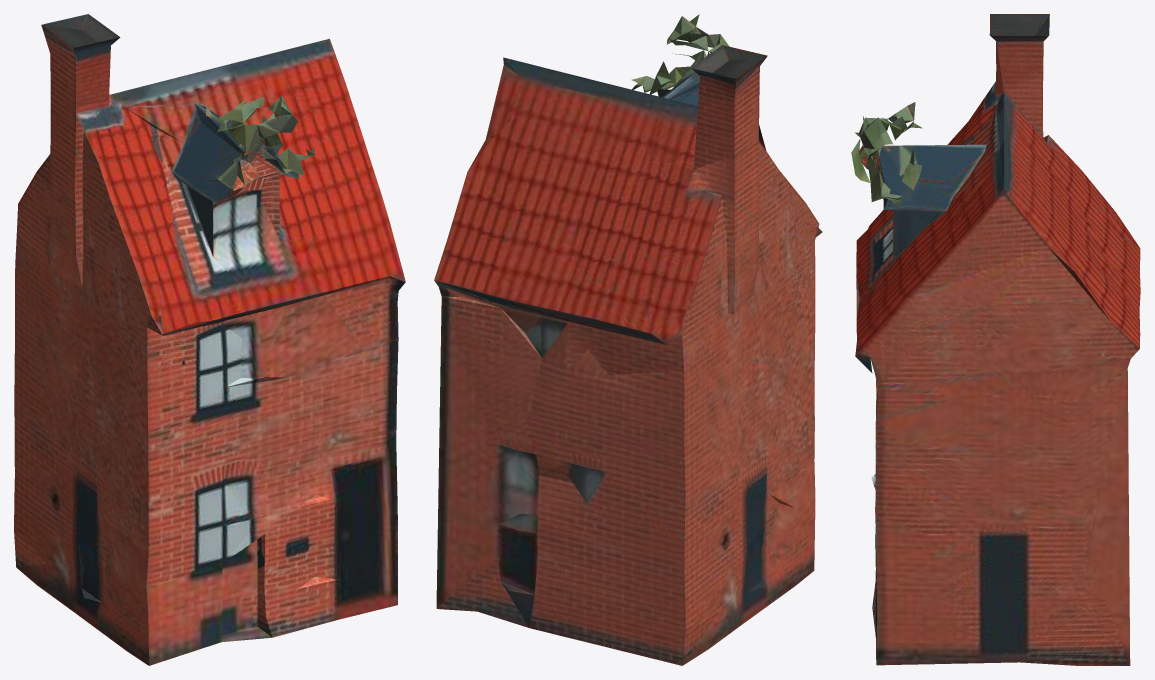
Rendered from farHouseA.glb.
The picture shows the model from 3 angles, left to right: view 1: azimuth 30°, elevation 25°; view 2: azimuth 150°, elevation 25°; view 3: azimuth 270°, elevation 25°; orthographic projection. The views are drawn at different scales.
Bounding box in the file's own units: 0.917 × 1.9 × 0.9358.
Materials: 1 (1 with a texture image).
